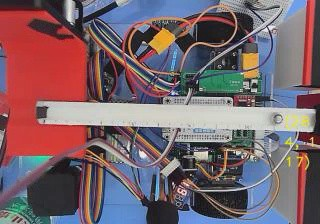ironball: (274, 113, 283, 124)
